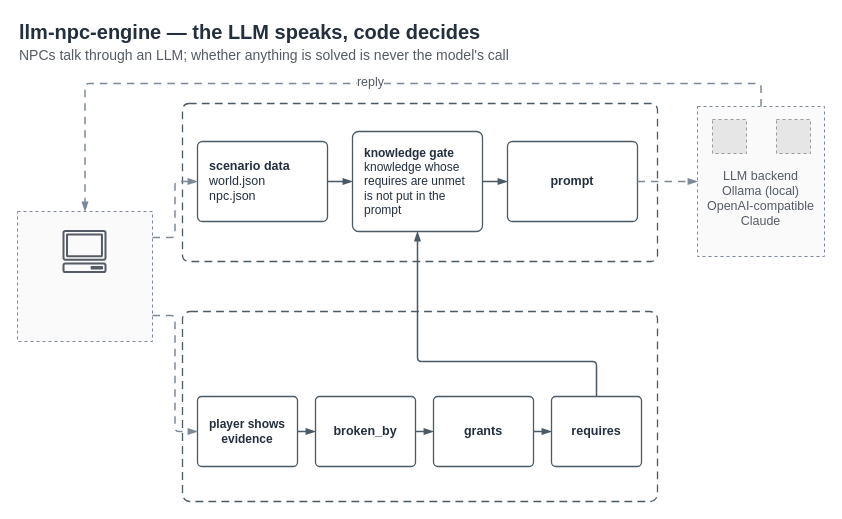
Some shapes in this 842 by 519 pixel diagram are drawn without their labels. Grey dashed boxes stand in for pictures. Each missing label, with the box of its shape:
Progression: decided in code: (181, 310, 658, 502)
the game (scenario + UI): (62, 229, 106, 273)
What is said: (181, 102, 658, 262)
